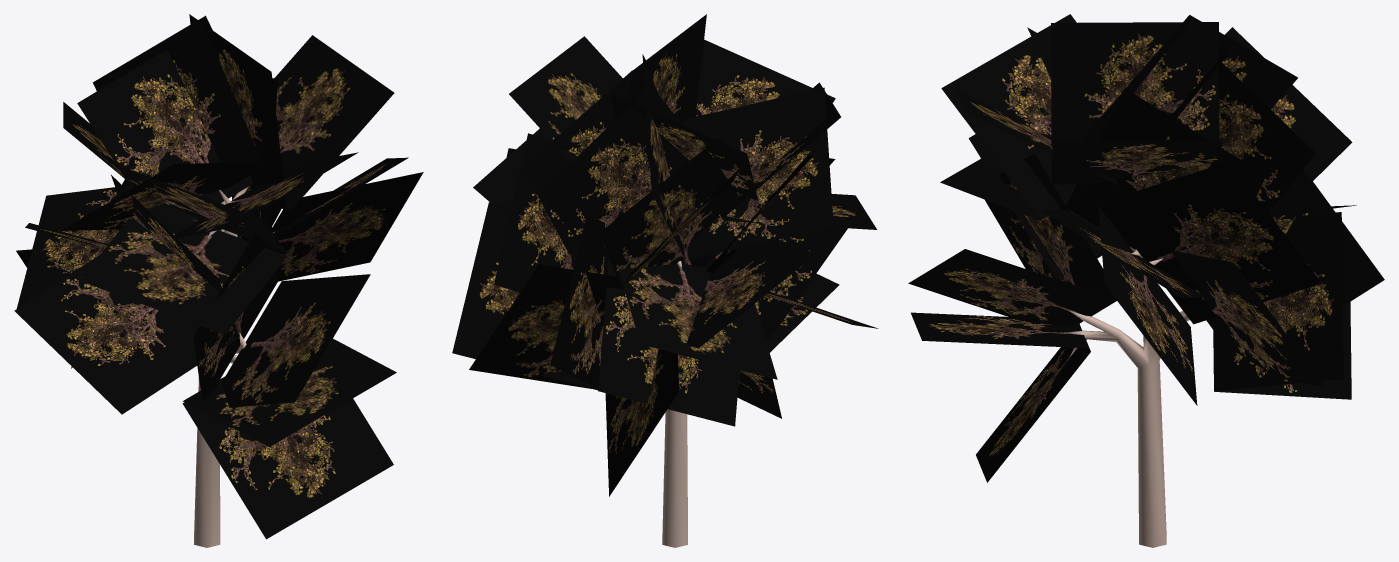
The model's file is tree9.glb.
The picture shows the model from 3 angles, left to right: view 1: azimuth 30°, elevation 25°; view 2: azimuth 150°, elevation 25°; view 3: azimuth 270°, elevation 25°; orthographic projection. The views are drawn at different scales.
Bounding box in the file's own units: 5.5 × 7.02 × 5.68.
Materials: 2 (1 with a texture image).
